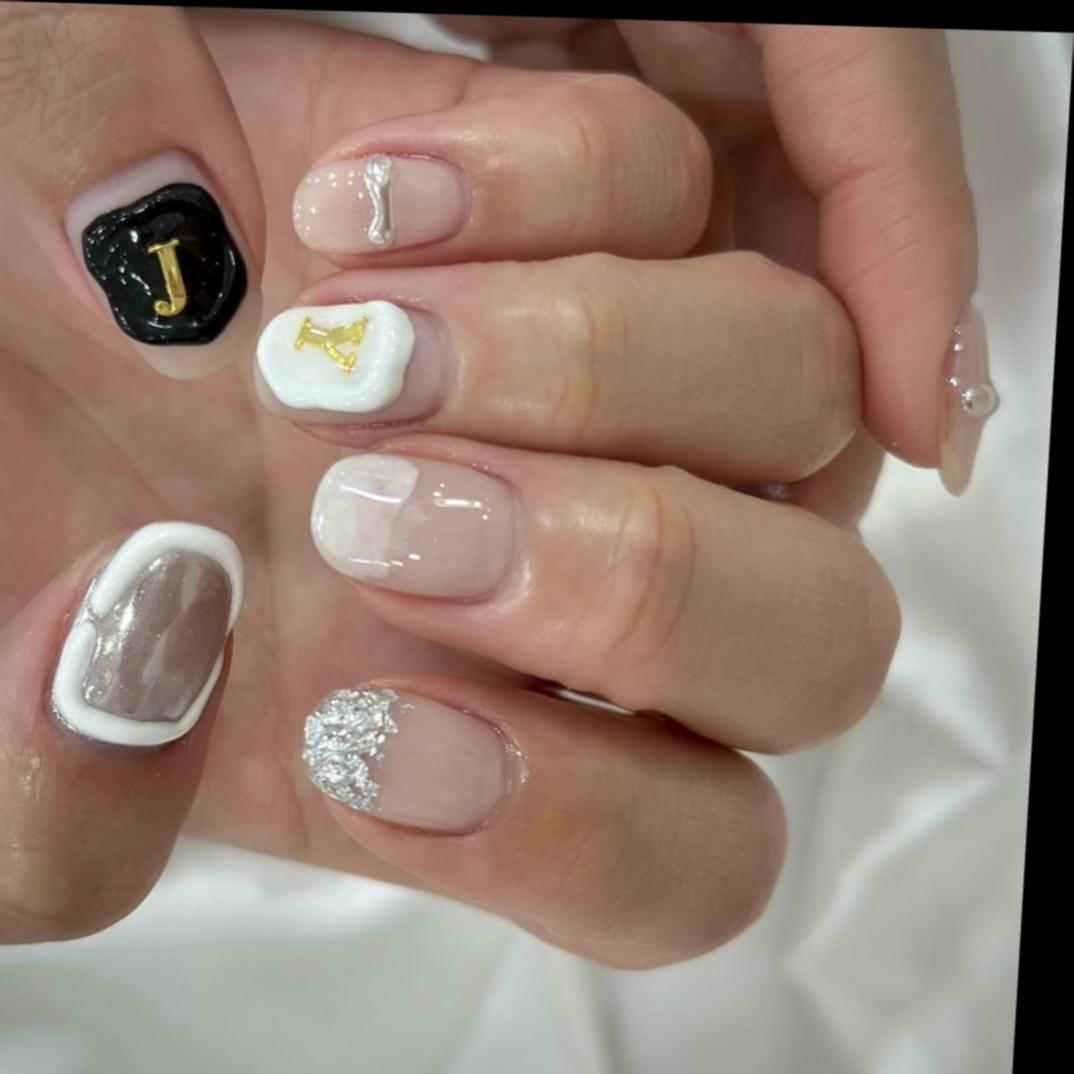nail: (42, 516, 249, 752), (294, 680, 527, 840), (303, 449, 522, 603), (73, 178, 254, 350), (248, 295, 448, 428), (287, 147, 473, 259), (931, 300, 1006, 498)
